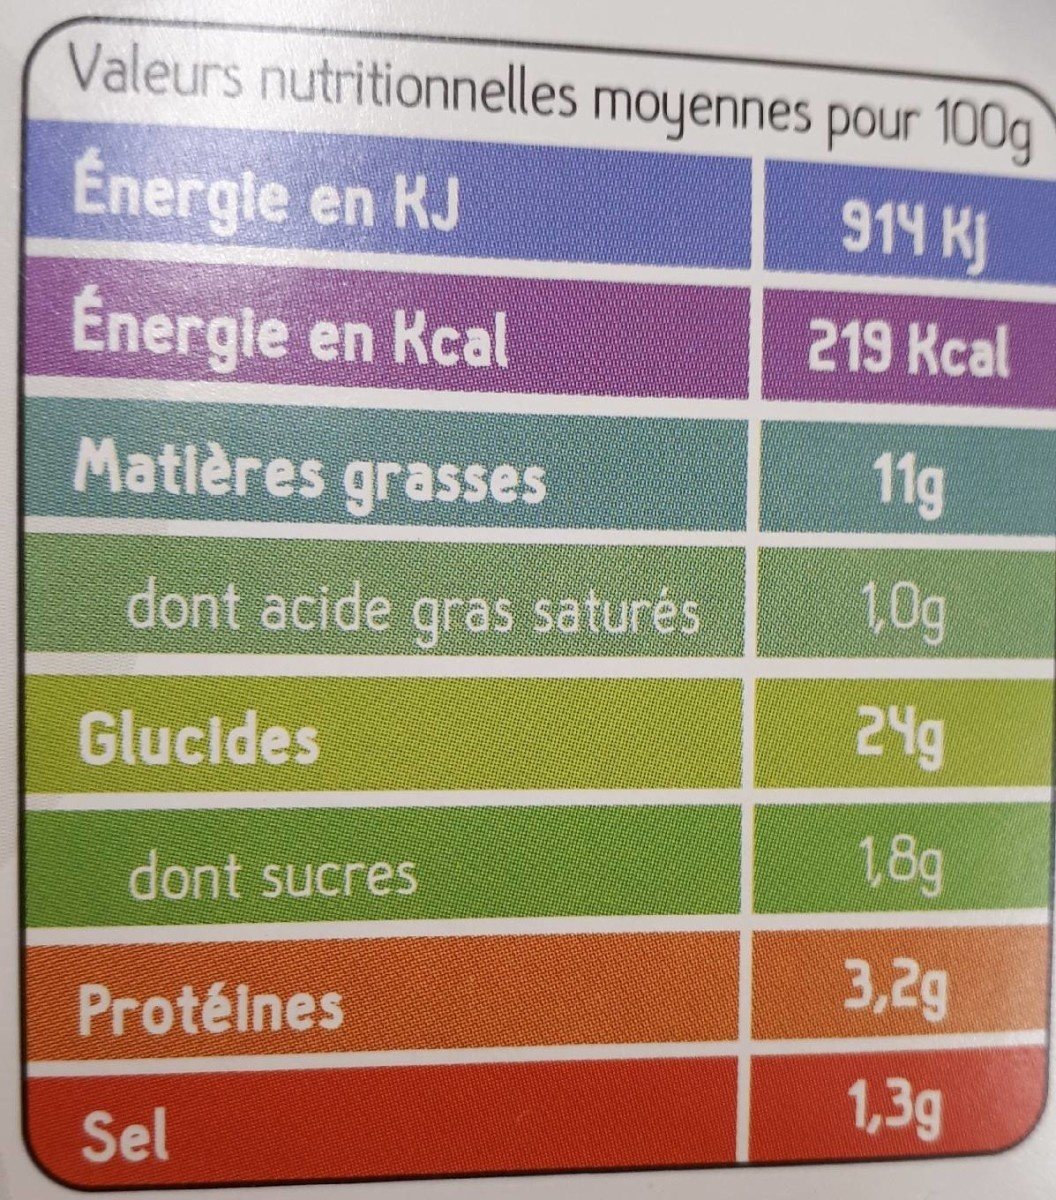column: (54, 137, 720, 1166), (789, 159, 1010, 1152)
table: (9, 26, 1047, 1176)
